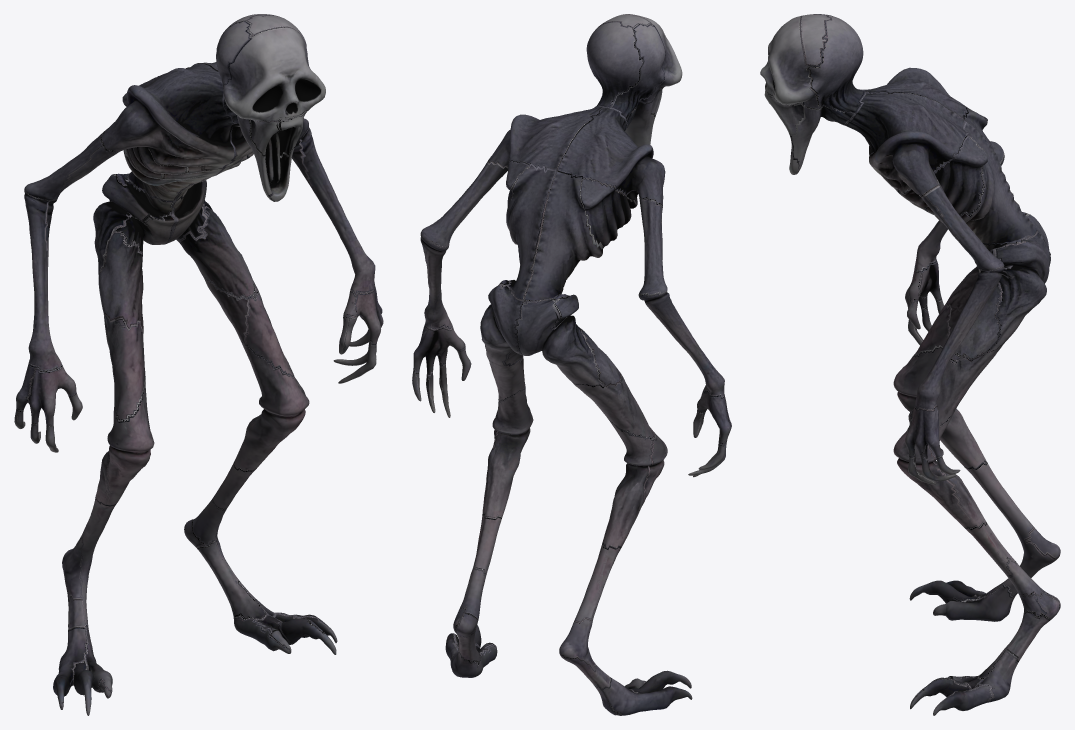
File: Ghost_08.gltf
3 views of the same model, side by side, from view 1: azimuth 30°, elevation 25°; view 2: azimuth 150°, elevation 25°; view 3: azimuth 270°, elevation 25° (orthographic). The views are drawn at different scales.
Visible parts, largest first — view 1: tripo_node_d795c714_remesh; view 2: tripo_node_d795c714_remesh; view 3: tripo_node_d795c714_remesh.
Part boxes in pixels (x1=…): tripo_node_d795c714_remesh: x1=14, y1=14, x2=383, y2=715; tripo_node_d795c714_remesh: x1=412, y1=14, x2=731, y2=715; tripo_node_d795c714_remesh: x1=760, y1=14, x2=1060, y2=715.
Size of the model in its own units: 0.9668 by 1.79 by 0.7633.
Materials: 1 (1 with a texture image).
